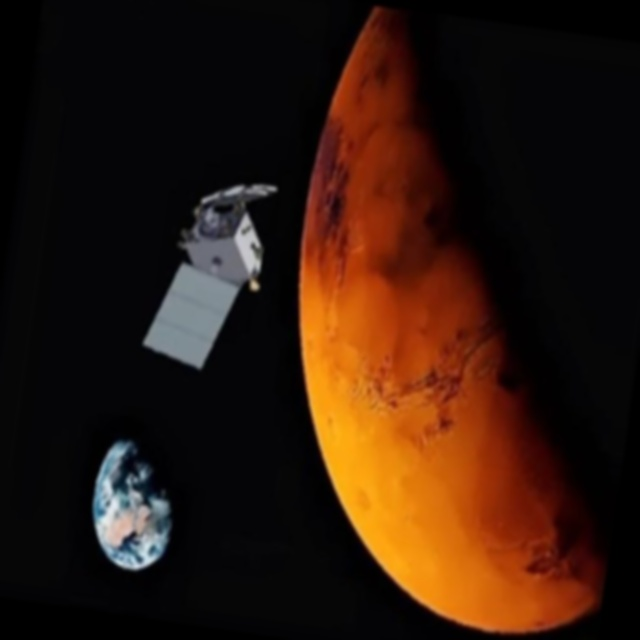satellite: (138, 154, 290, 389)
